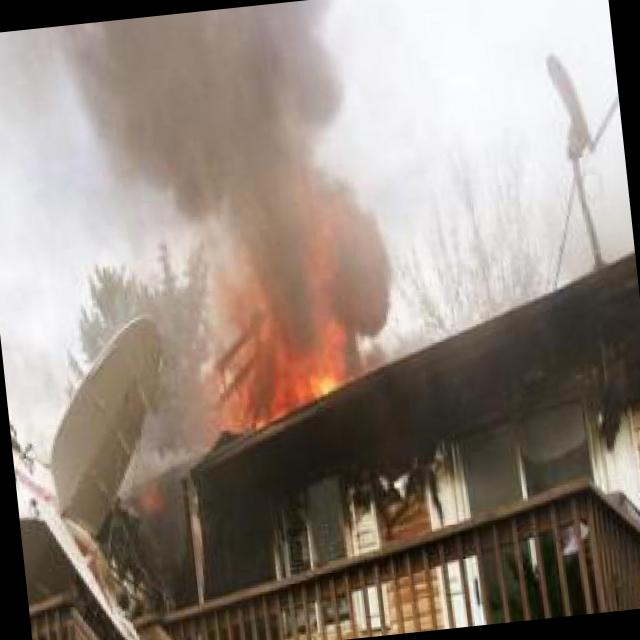fire: (227, 340, 373, 432)
smoke: (70, 0, 409, 367)
